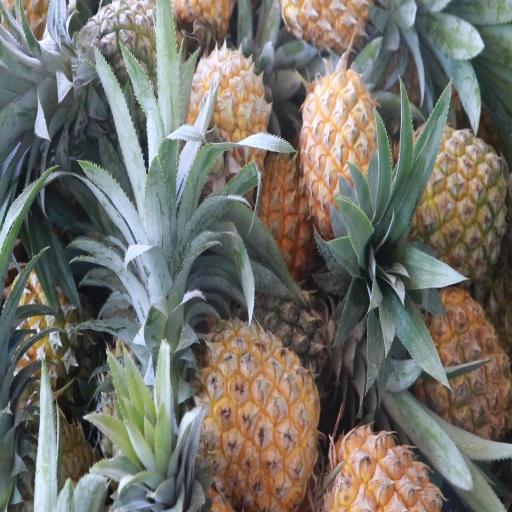Pineapple - v8 v1: (197, 318, 315, 512), (410, 130, 507, 280), (416, 289, 509, 444), (302, 68, 384, 234), (190, 53, 270, 184)
